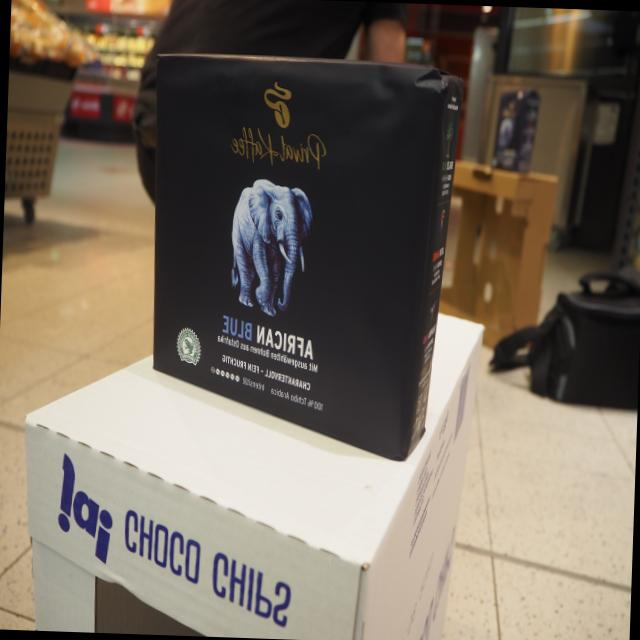AB Gemahlen: (149, 49, 454, 470)
